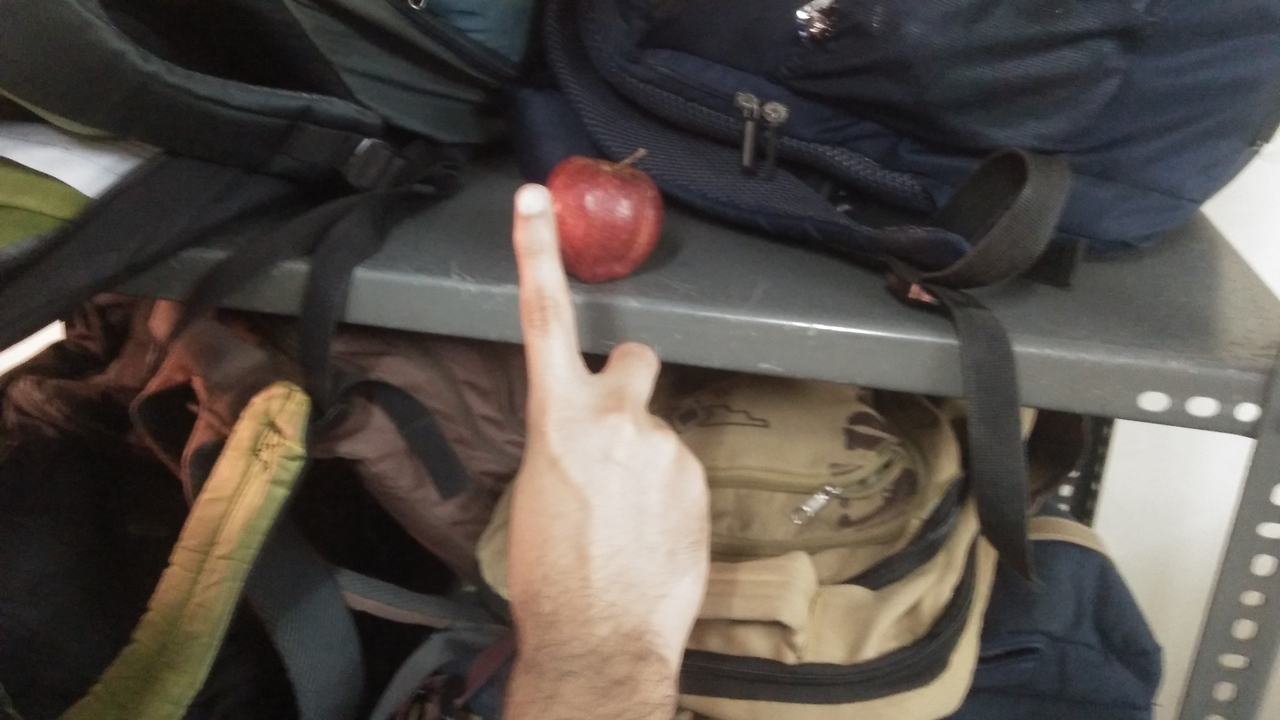fingertip: (504, 174, 556, 230)
